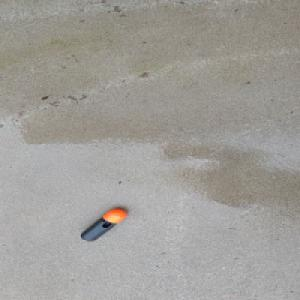PlasticPart: (79, 207, 128, 241)
